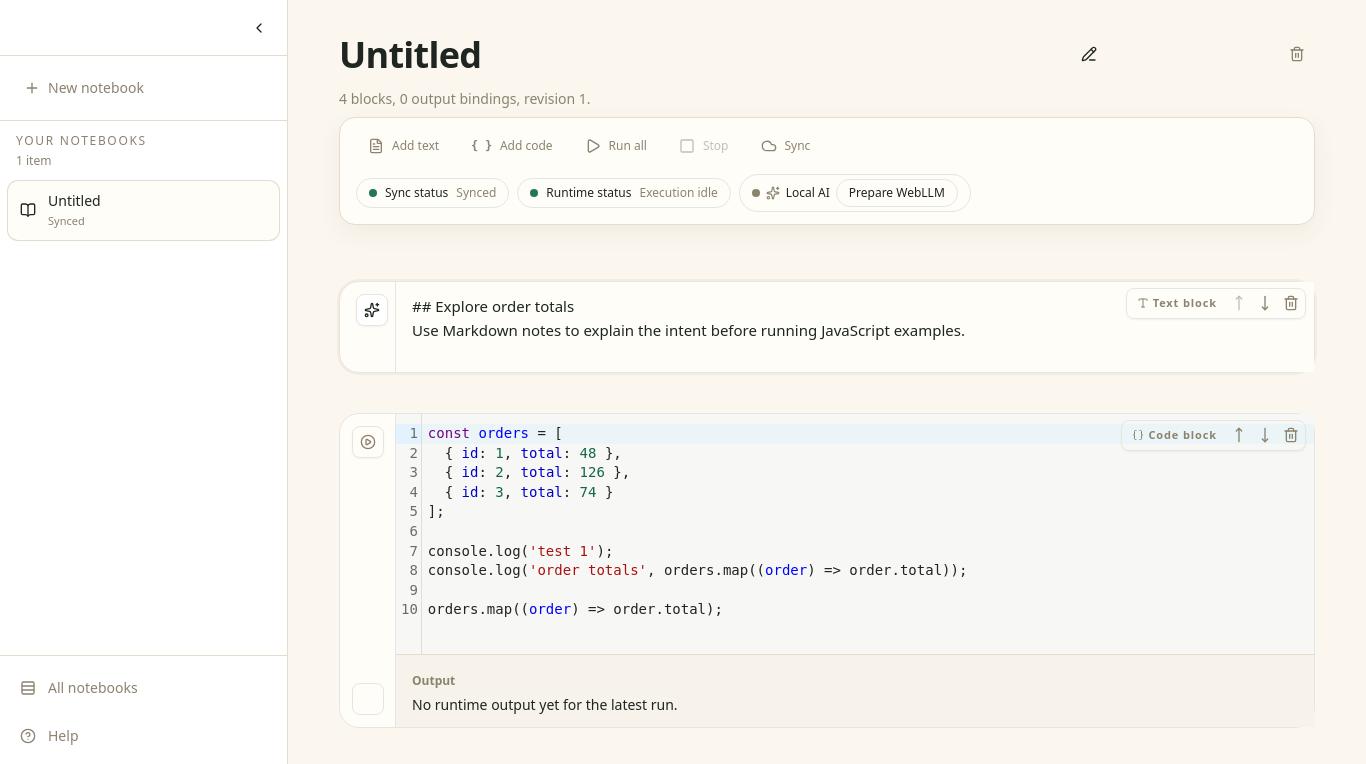
Test: NotebookEditorPage › prepares WebLLM and runs explicit local generation with provider labeling
Click the button "Prepare WebLLM" at (897, 193), box top-left (836, 179), bottom-right (958, 207)
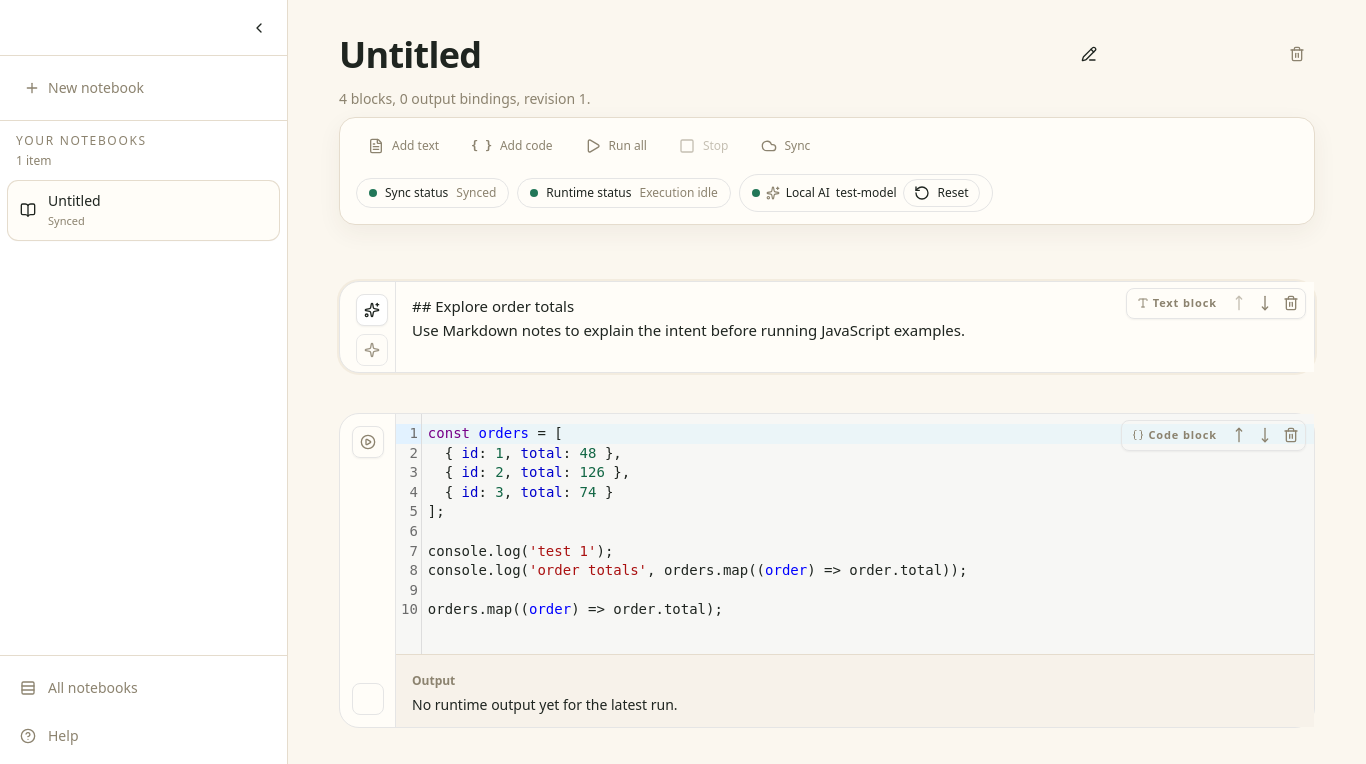
Expected: the text "test-model" is shown, top-left (836, 185), bottom-right (897, 201)
Expected: the element named "Local AI status" shows "test-model", top-left (836, 184), bottom-right (897, 201)
Expected: the button with aria-label "Reset WebLLM local mode" is shown, top-left (903, 179), bottom-right (980, 207)
Click the button named "Generate code locally from blk_intro" at (372, 350), box top-left (356, 334), bottom-right (388, 366)
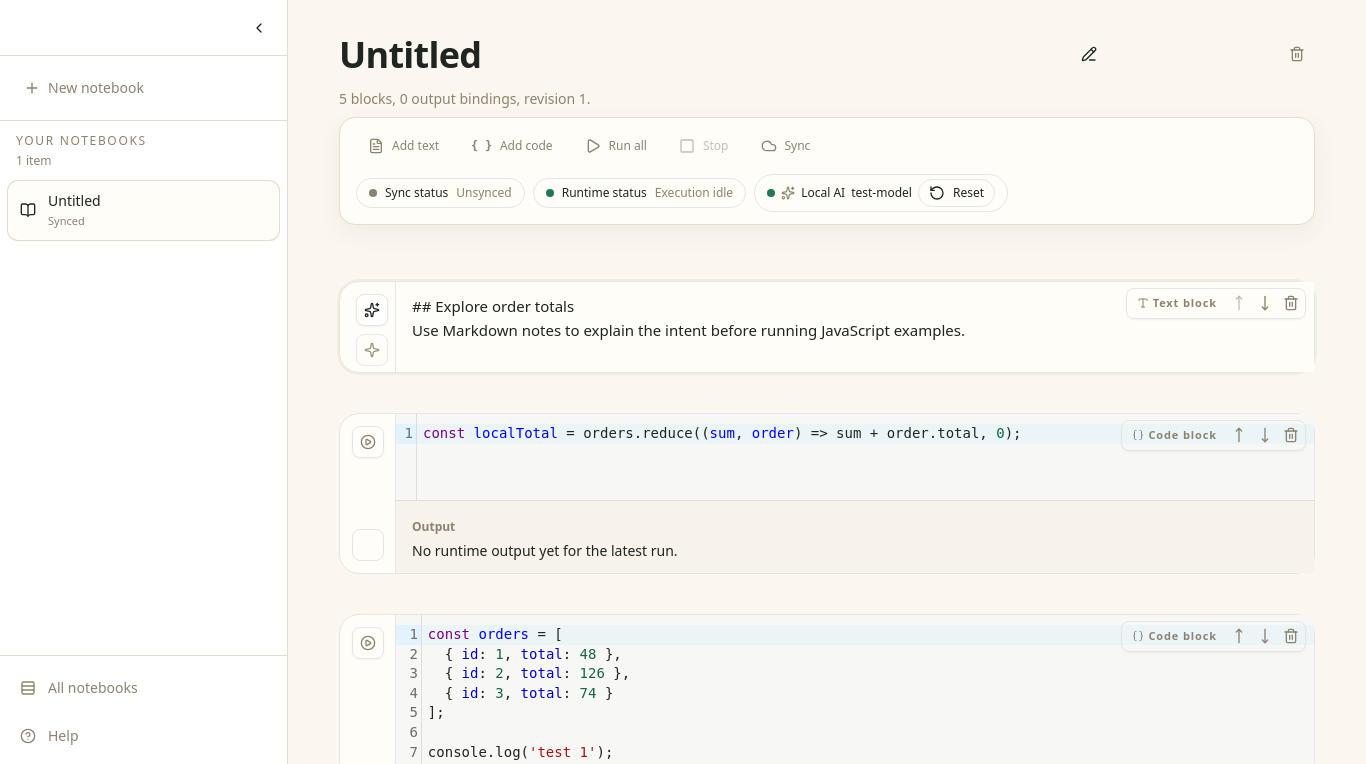
Expected: the number of elements named "JavaScript code block" is 3
